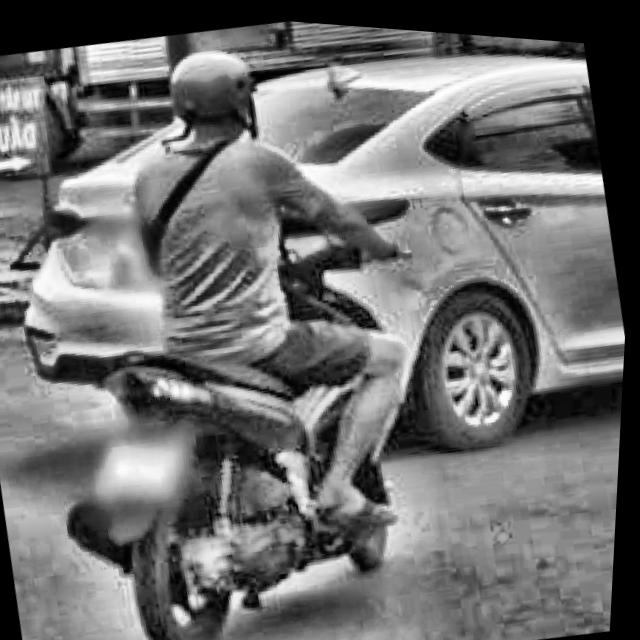motorcycle: (0, 142, 508, 640)
